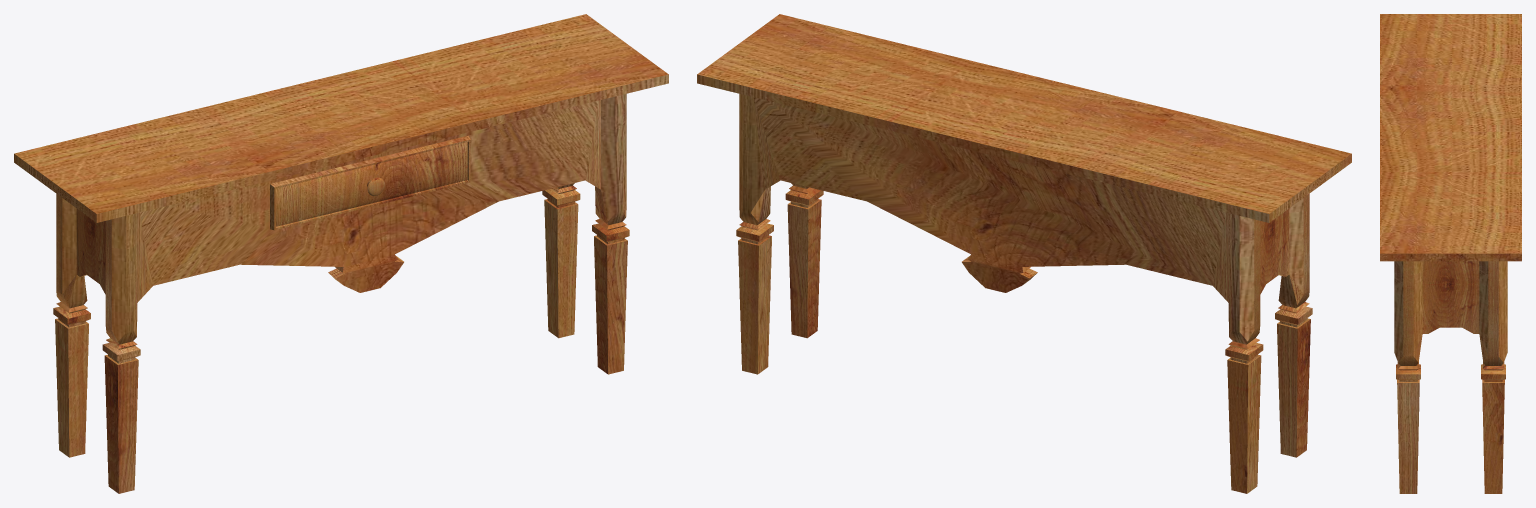
Rendered from drawer.obj.
3 views of the same model, side by side, from view 1: azimuth 30°, elevation 25°; view 2: azimuth 150°, elevation 25°; view 3: azimuth 270°, elevation 25° (orthographic). The views are drawn at different scales.
Parts seen in each view (by area): view 1: Mesh; view 2: Mesh; view 3: Mesh.
Boxes of the visible parts, x1,y1,x2,y2 form: Mesh: [14, 14, 668, 493]; Mesh: [697, 14, 1351, 493]; Mesh: [1380, 14, 1521, 493].
Size of the model in its own units: 1 by 0.495 by 0.25.
